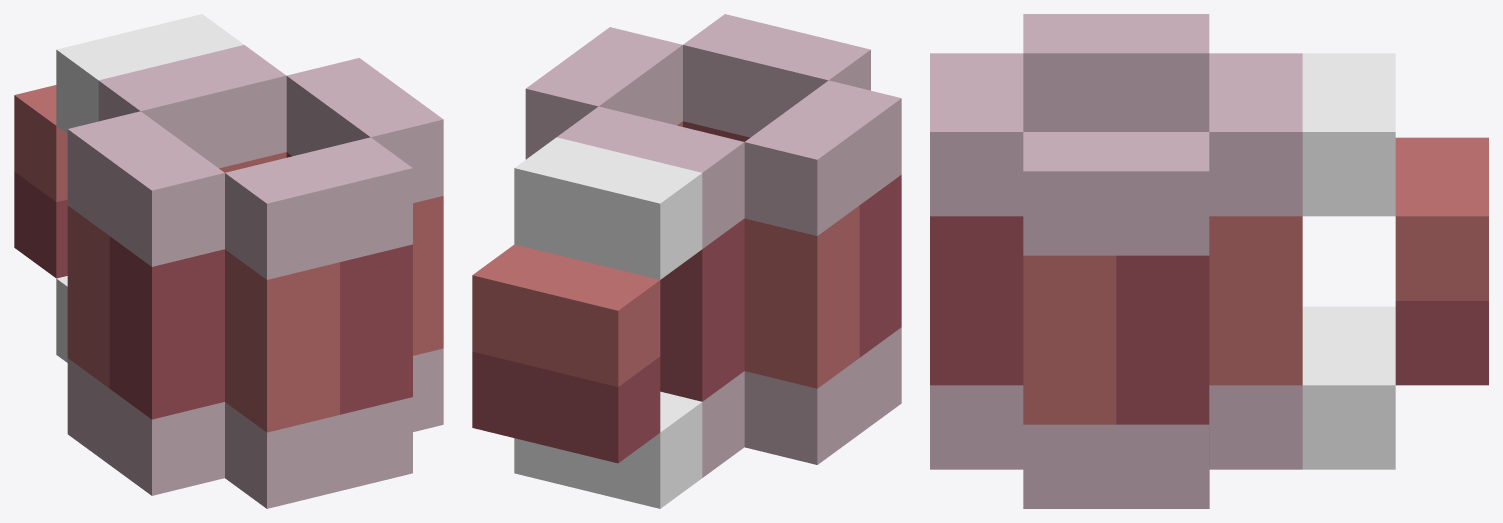
The model's file is mug.obj.
3 renders of one model, left to right at view 1: azimuth 30°, elevation 25°; view 2: azimuth 150°, elevation 25°; view 3: azimuth 270°, elevation 25°, orthographic. The views are drawn at different scales.
Visible parts, largest first — view 1: mug; view 2: mug; view 3: mug.
Part boxes in pixels (x1,y1,x2,y2): mug: (14, 14, 443, 508); mug: (472, 14, 901, 508); mug: (930, 14, 1488, 508).
Size of the model in its own units: 1.98 by 1.98 by 2.96.
